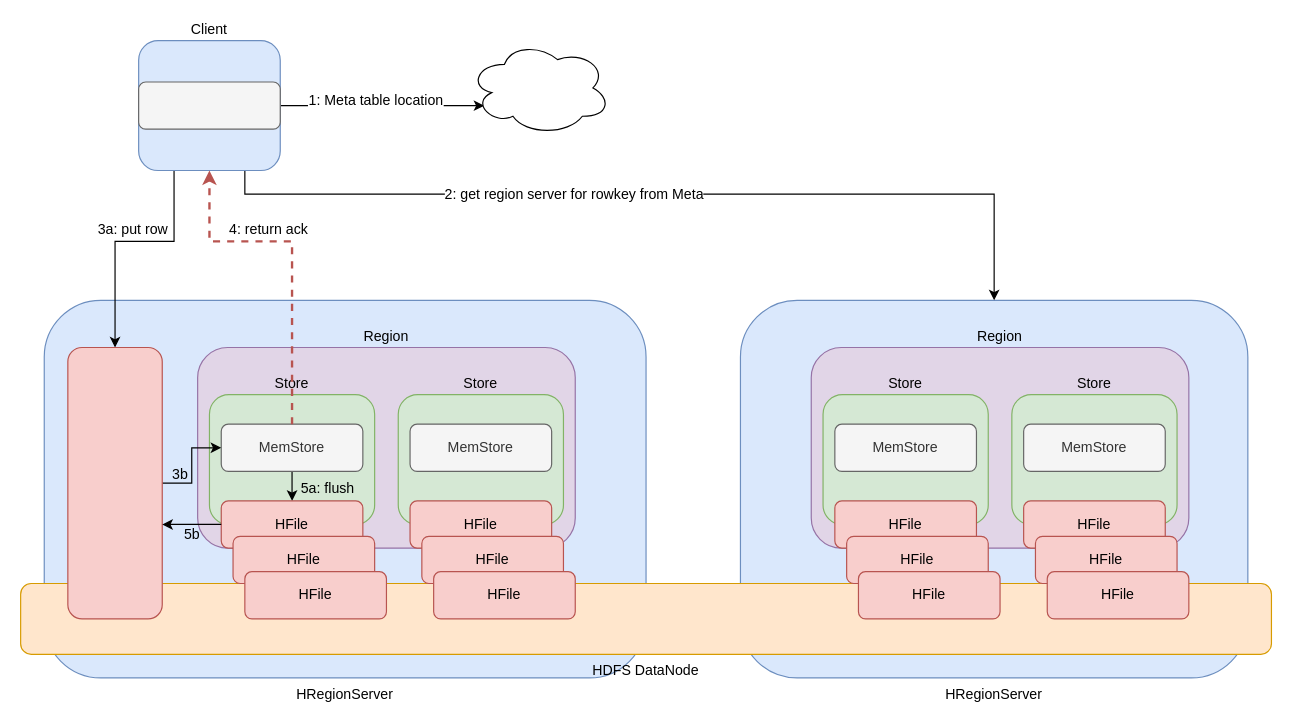
Image size: 1292x722. Some labels were removed from this diagram. Here are the shapes that lost their labels. From the top down, the centre of each, then its label:
(x=208, y=105): Meta Cache
(x=539, y=87): Zookeeper
(x=114, y=482): HLog
